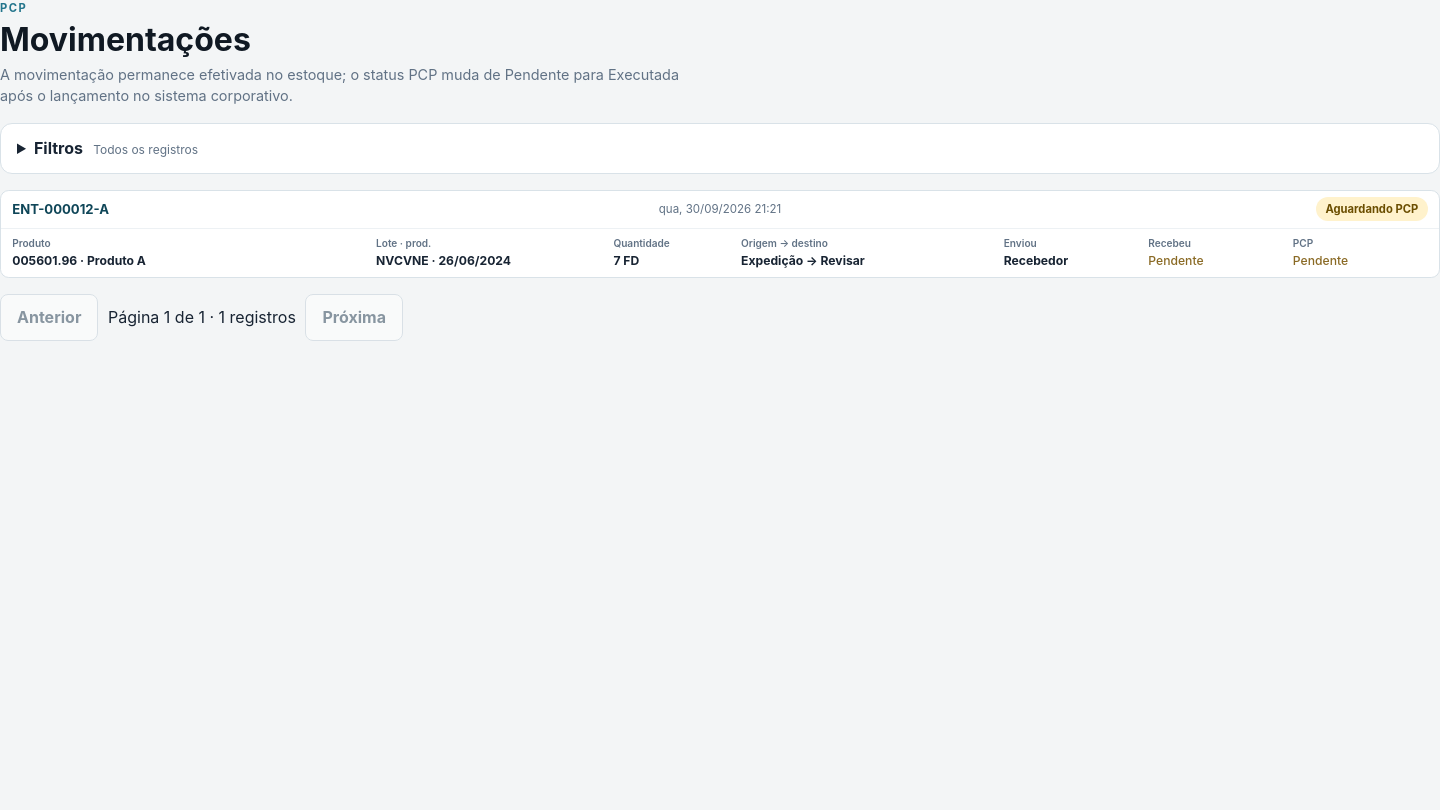
Scenario: detalhe aberto pela fila PCP › consulta um registro sem oferecer execução quando o usuário tem somente leitura
This screenshot has width=1440, height=810.
Click the button with class "movement-record-line-main" at (720, 210), box [1, 191, 1439, 276]
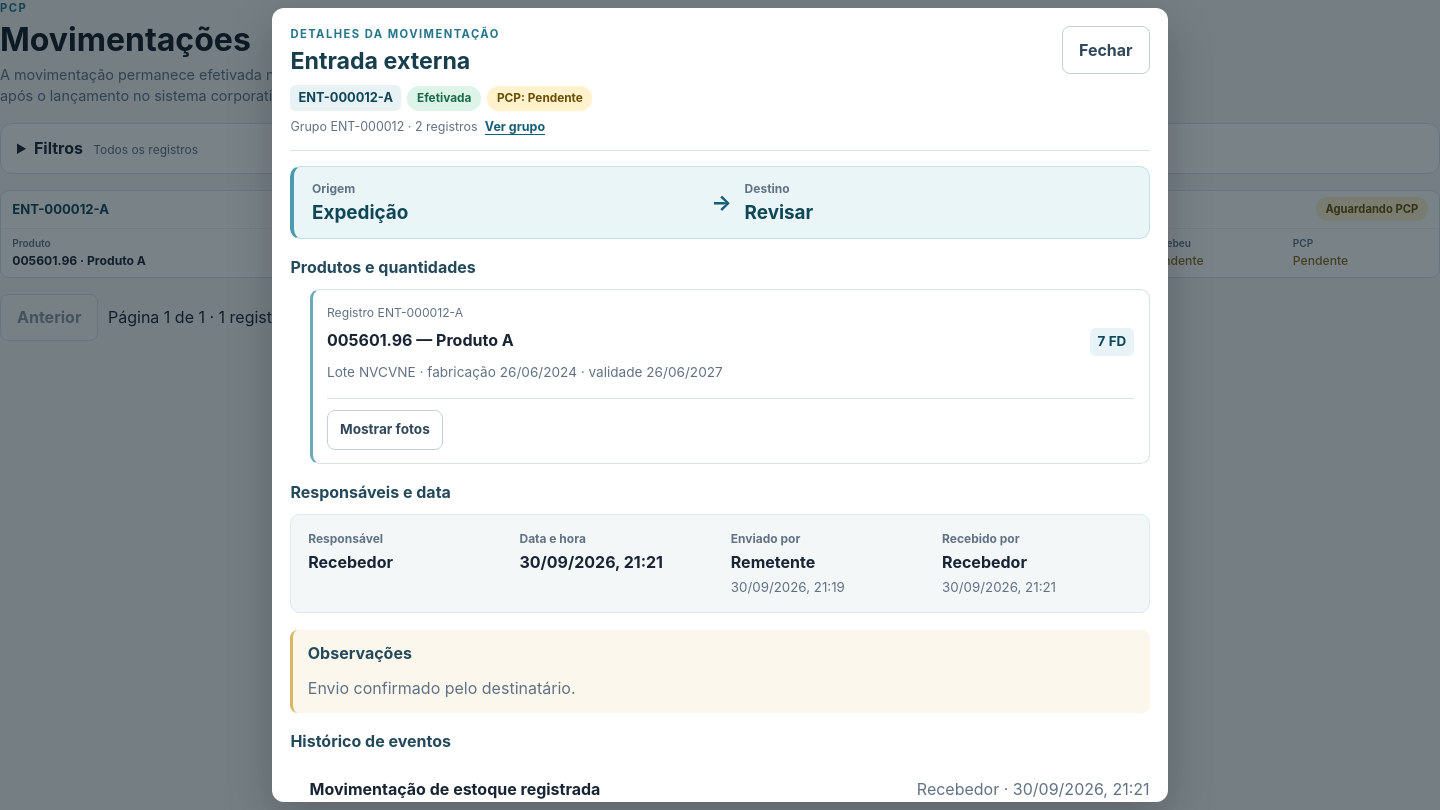
Check: the dialog is shown
